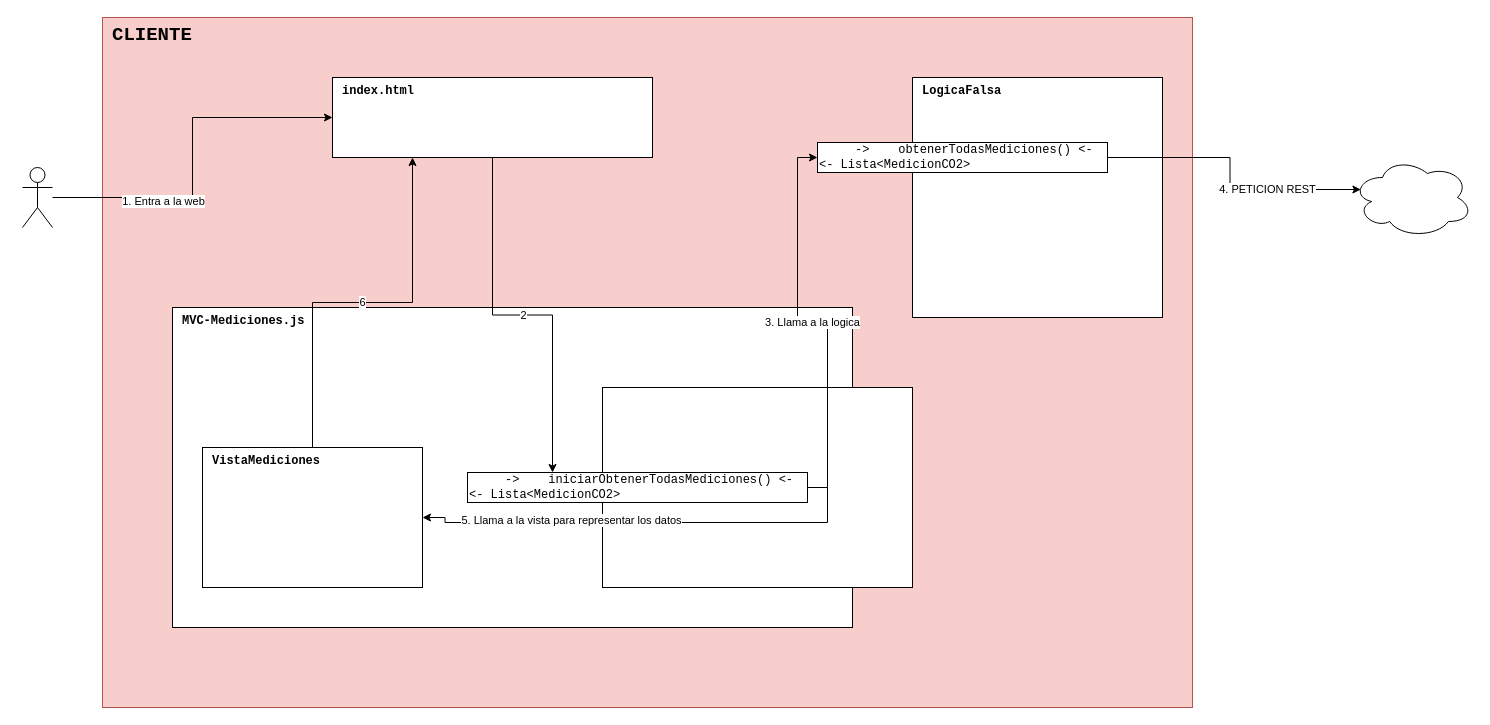
The diagram is 1490 pixels wide and 725 high, and some of its shapes have lost their labels. The shapes that lost their labels are listed below. From the top down, each one's box as (x1, y1, x2, y2) in pixels, then its label:
(22, 166, 52, 228): Usuario
(1352, 156, 1472, 238): SERVIDOR
(602, 386, 912, 588): ControladorMediciones
